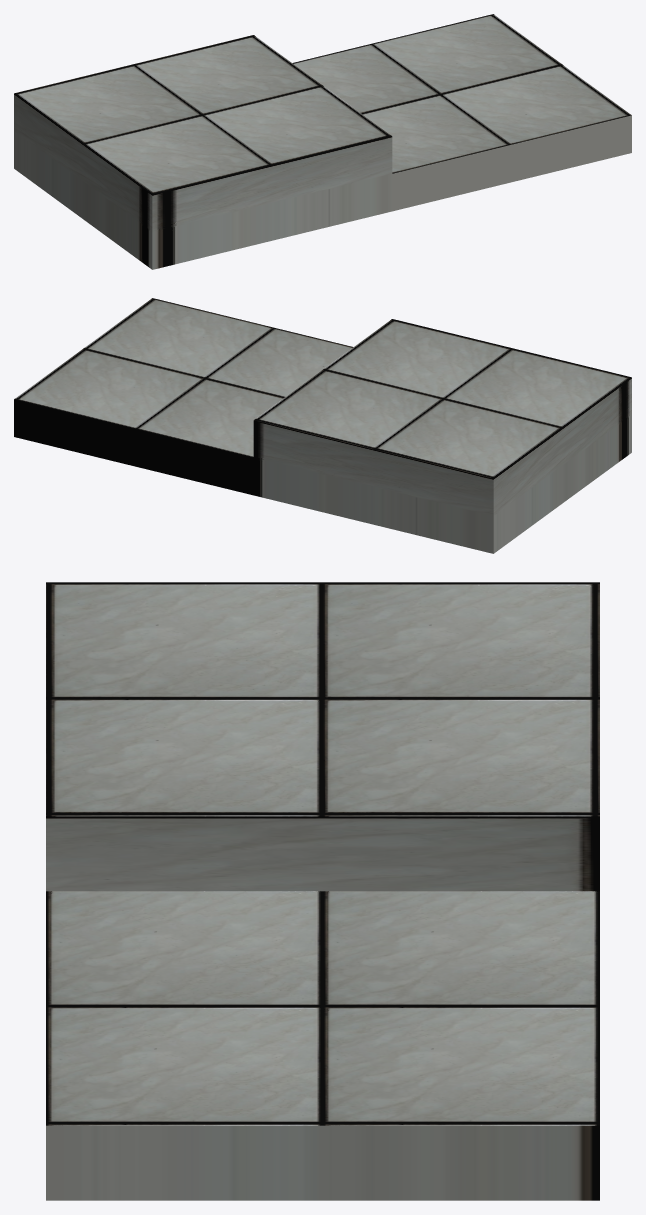
The model's file is down.dae.
The picture shows the model from 3 angles, top to bottom: view 1: azimuth 30°, elevation 25°; view 2: azimuth 150°, elevation 25°; view 3: azimuth 270°, elevation 25°; orthographic projection. The views are drawn at different scales.
Parts seen in each view (by area): view 1: marmol_floor.001; view 2: marmol_floor.001; view 3: marmol_floor.001.
Boxes of the visible parts, x1=… form: marmol_floor.001: x1=14, y1=14, x2=631, y2=269; marmol_floor.001: x1=14, y1=298, x2=631, y2=553; marmol_floor.001: x1=46, y1=582, x2=599, y2=1200.
Size of the model in its own units: 4 by 2 by 0.6.
1 material, 1 textured.
